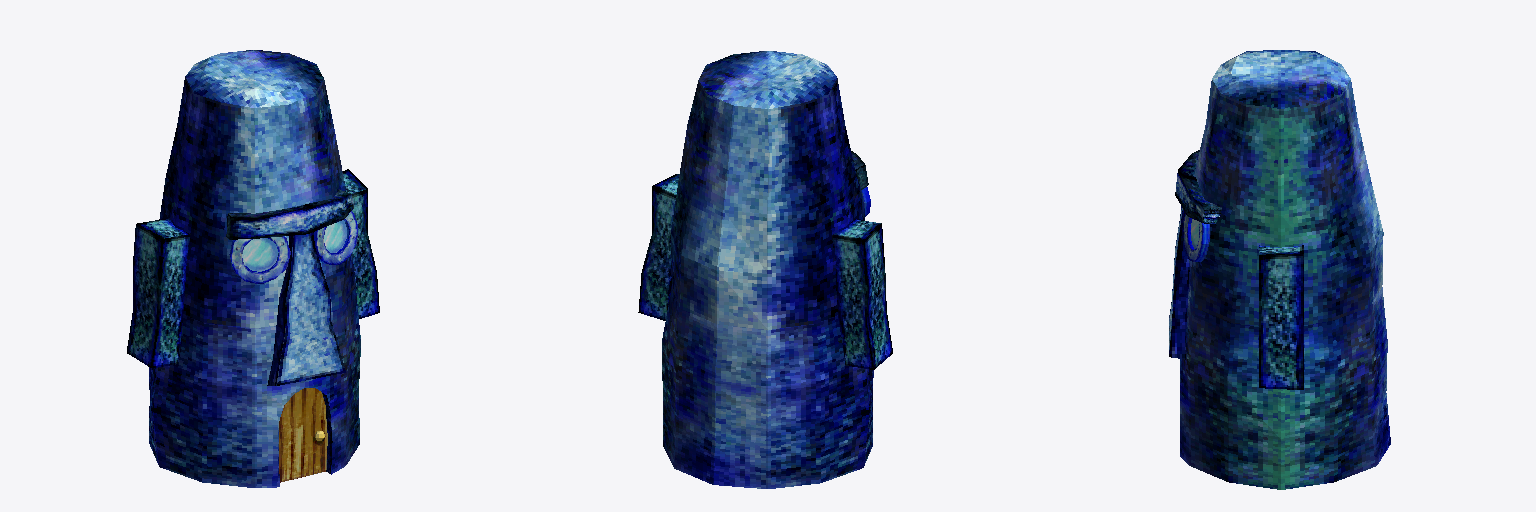
3 renders of one model, left to right at view 1: azimuth 30°, elevation 25°; view 2: azimuth 150°, elevation 25°; view 3: azimuth 270°, elevation 25°, orthographic.
Visible parts, largest first — view 1: 3, 5, 4, object 1, 2; view 2: 3, 5, 4; view 3: 3, 5, 4, object 1, 2.
Part boxes in pixels (x1,y1,x2,y2): 3: (159,50,355,328); 5: (149,287,360,487); 4: (127,169,379,367); object 1: (267,232,345,482); 2: (229,211,357,283); 3: (671,51,864,329); 5: (662,289,873,488); 4: (638,151,892,369); 3: (1188,50,1383,325); 5: (1180,287,1390,489); 4: (1175,150,1303,389); object 1: (1169,208,1189,359); 2: (1181,206,1209,261).
Bounding box in the file's own units: 2.92 × 4.46 × 2.39.
Materials: 5 (5 with a texture image).